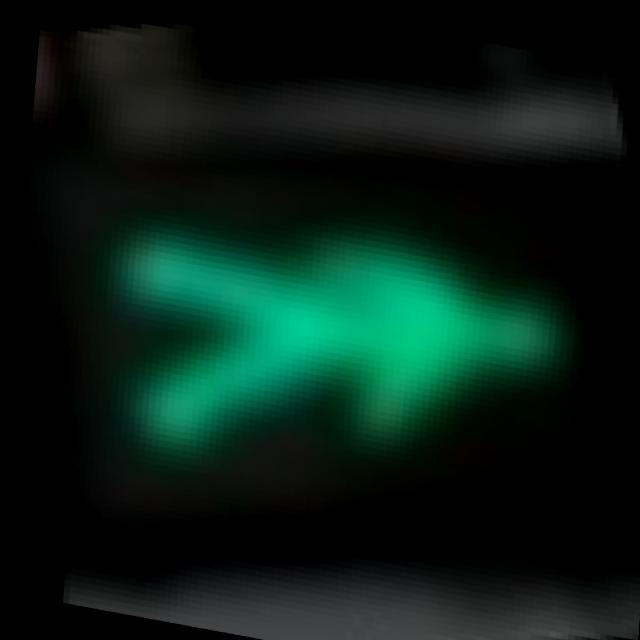green_light: (58, 126, 597, 552)
